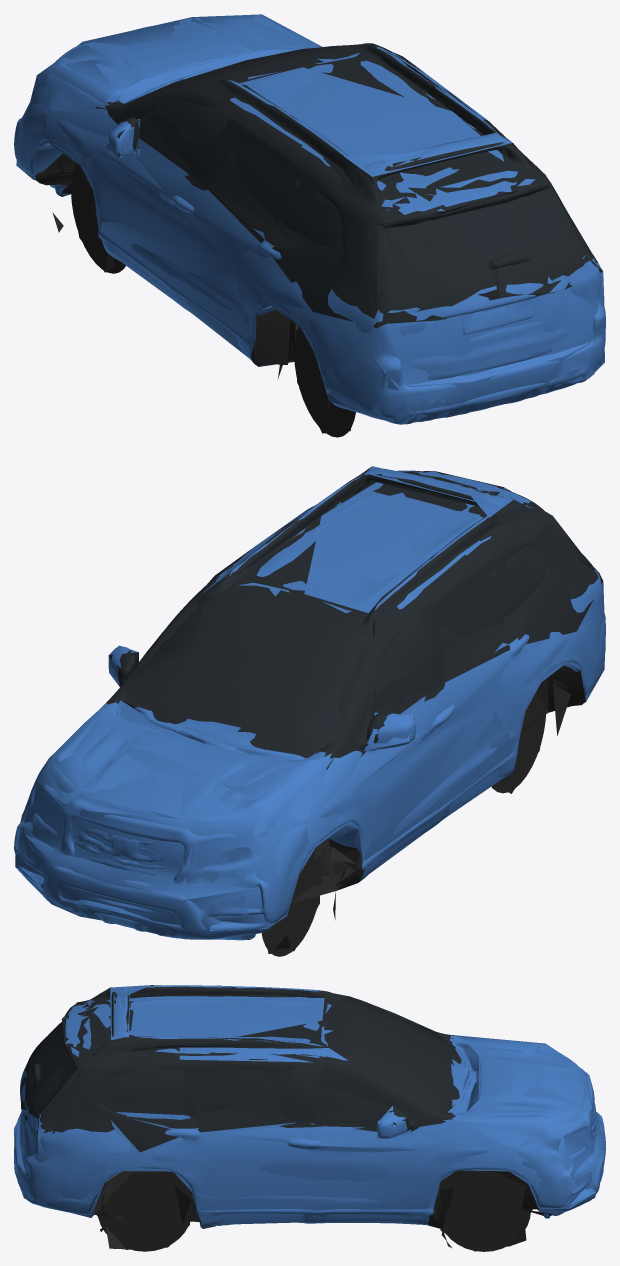
File: honda-passport.glb
3 renders of one model, top to bottom at view 1: azimuth 30°, elevation 25°; view 2: azimuth 150°, elevation 25°; view 3: azimuth 270°, elevation 25°, orthographic. The views are drawn at different scales.
Visible parts, largest first — view 1: body, far; view 2: body, far; view 3: body, far.
Boxes of the visible parts, <box> form: body: <box>14,15,605,437</box>; far: <box>16,14,604,433</box>; body: <box>14,468,605,956</box>; far: <box>15,466,605,953</box>; body: <box>14,985,605,1251</box>; far: <box>14,985,604,1251</box>.
Bounding box in the file's own units: 2.19 × 1.91 × 4.89.
